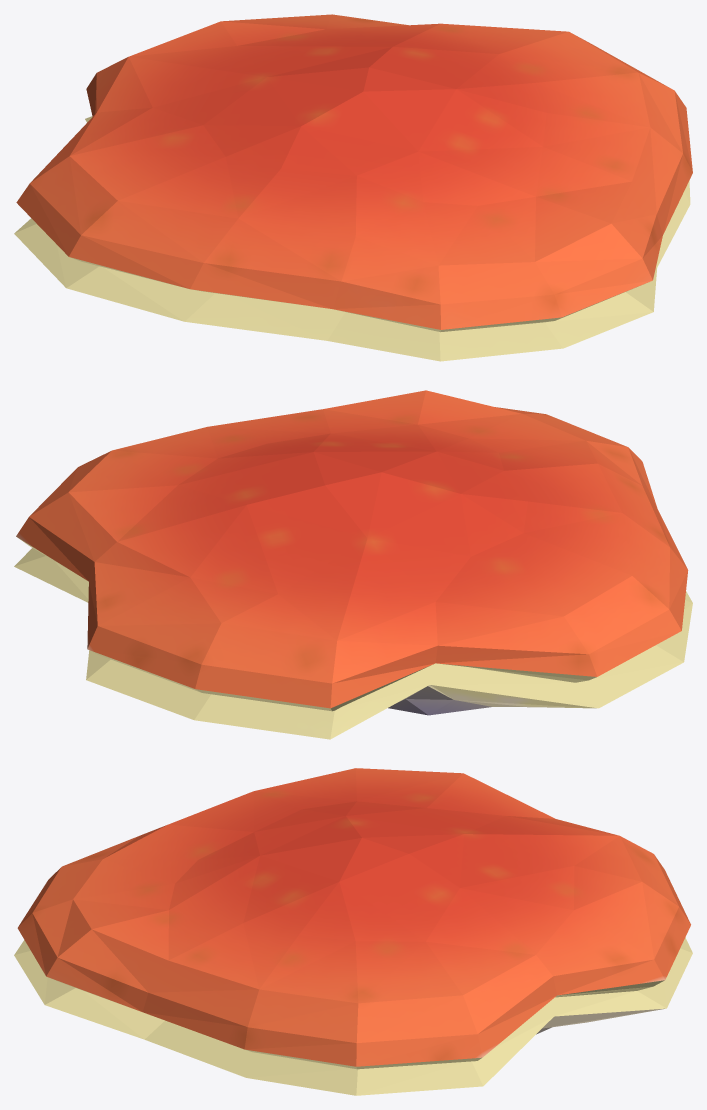
Rendered from CrabBody.obj.
3 renders of one model, top to bottom at view 1: azimuth 30°, elevation 25°; view 2: azimuth 150°, elevation 25°; view 3: azimuth 270°, elevation 25°, orthographic. The views are drawn at different scales.
Visible parts, largest first — view 1: Cylinder; view 2: Cylinder; view 3: Cylinder.
Boxes of the visible parts, x1,y1,x2,y2 form: Cylinder: (14,14,692,361); Cylinder: (14,390,692,739); Cylinder: (14,768,692,1095).
Bounding box in the file's own units: 2.97 × 0.7994 × 3.05.
